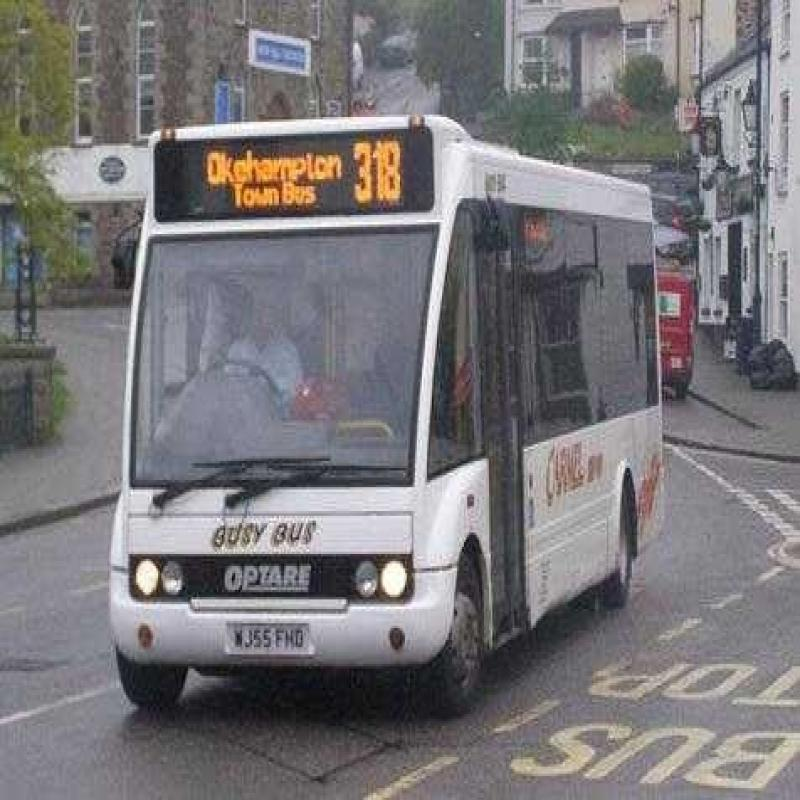bus: (113, 81, 701, 718)
